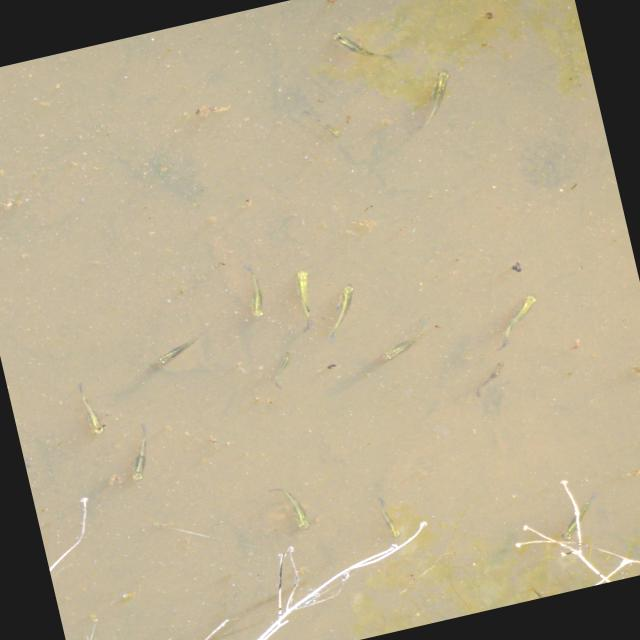Sivrisinek Baligi: (397, 64, 467, 130), (484, 289, 550, 351), (369, 314, 446, 366), (314, 278, 370, 341), (264, 476, 322, 535), (117, 419, 168, 482), (331, 17, 394, 68), (284, 260, 328, 332), (68, 372, 114, 438), (147, 328, 211, 372), (237, 259, 275, 322), (370, 490, 408, 541)
